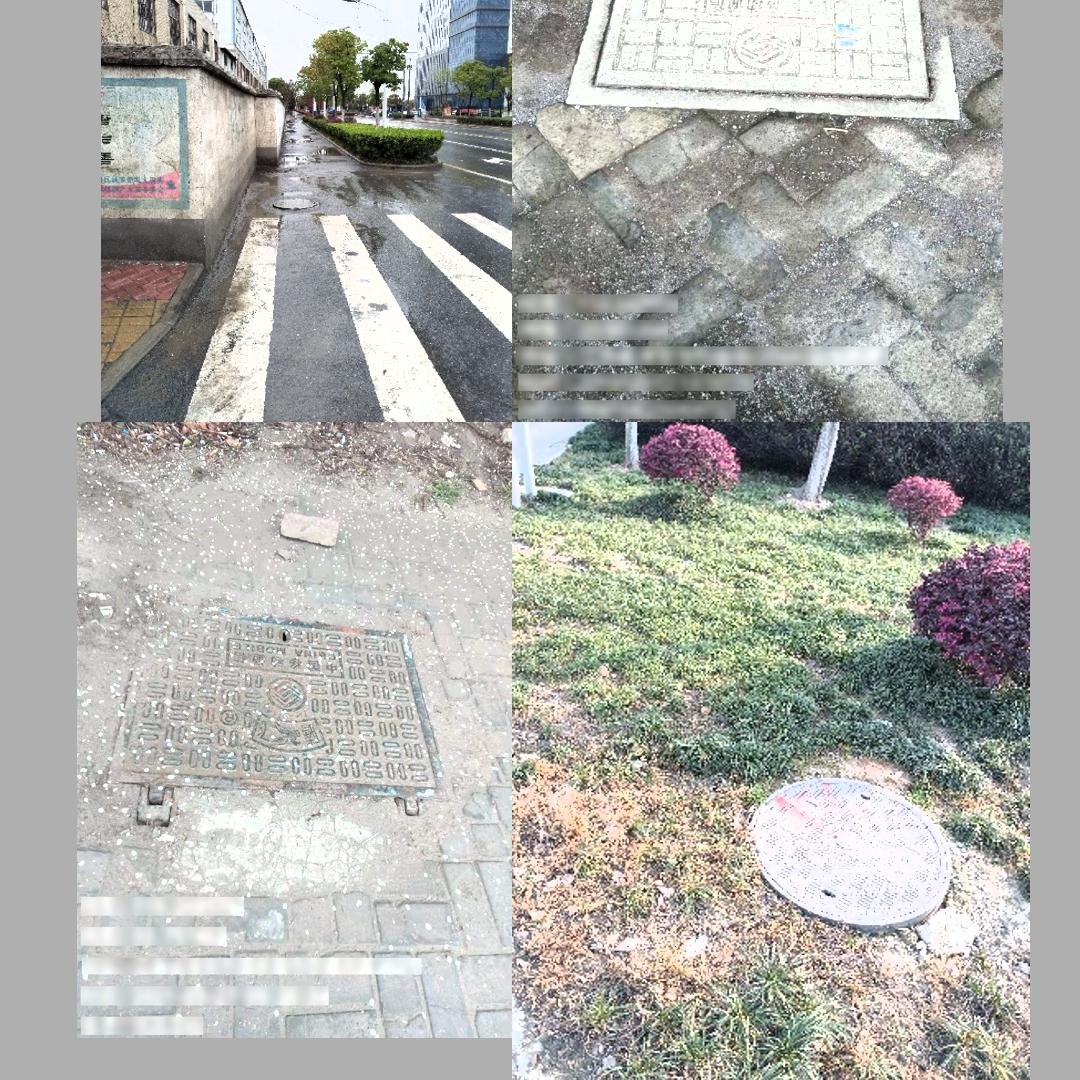good: (106, 607, 445, 824), (565, 0, 959, 121), (750, 771, 957, 931), (252, 171, 341, 233)
